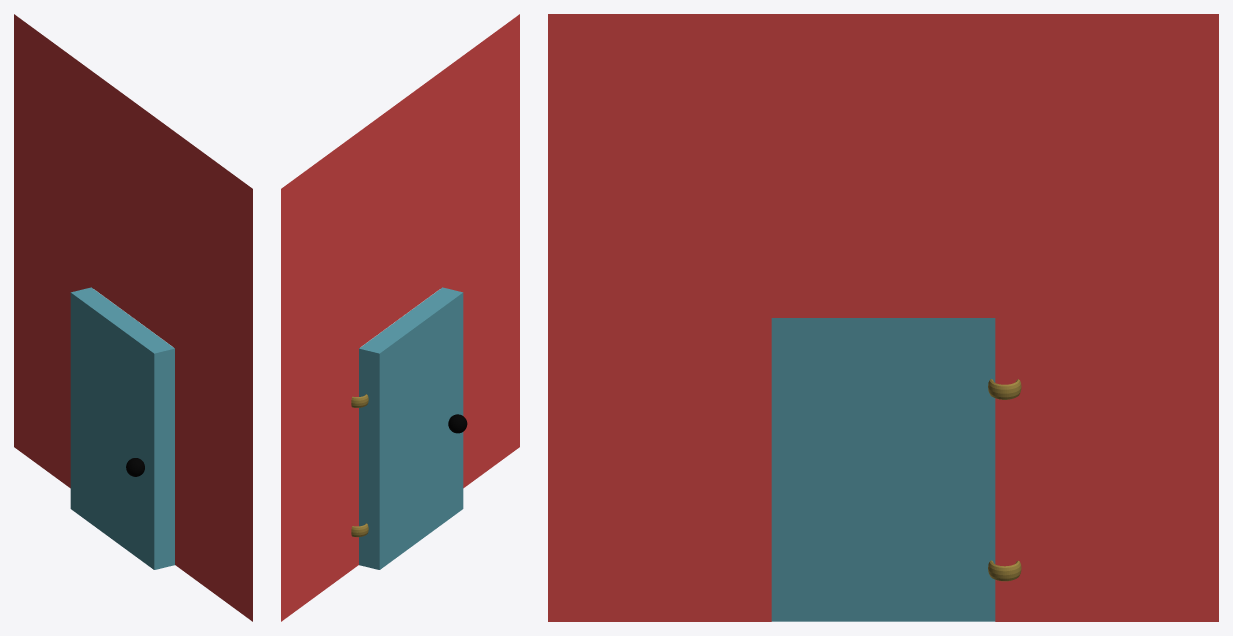
File: Door.glb
3 renders of one model, left to right at view 1: azimuth 30°, elevation 25°; view 2: azimuth 150°, elevation 25°; view 3: azimuth 270°, elevation 25°, orthographic. The views are drawn at different scales.
Visible parts, largest first — view 1: Plane, Door; view 2: Plane, Door; view 3: Plane, Door.
Part boxes in pixels (x1,y1,x2,y2): Plane: [14, 14, 252, 621]; Door: [70, 287, 174, 569]; Plane: [281, 14, 519, 621]; Door: [351, 287, 463, 569]; Plane: [548, 14, 1218, 621]; Door: [771, 318, 1021, 621].
Size of the model in its own units: 0.2233 by 2 by 2.
